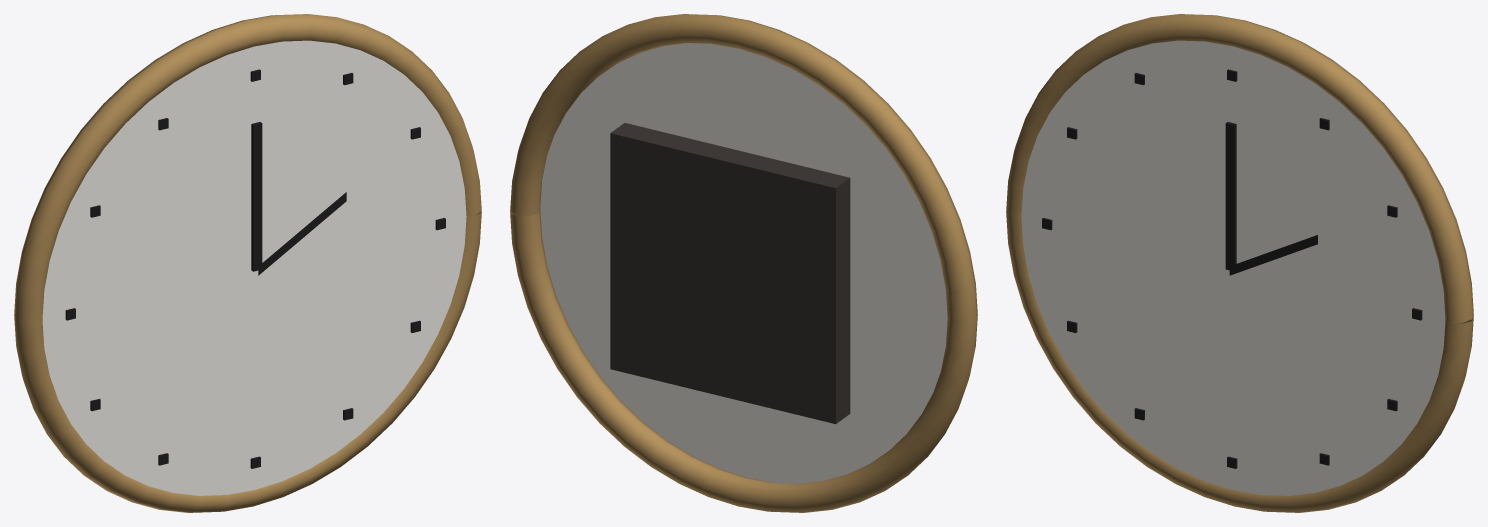
File: SAB-CLK-std.glb
3 views of the same model, side by side, from view 1: azimuth 30°, elevation 25°; view 2: azimuth 150°, elevation 25°; view 3: azimuth 330°, elevation 25° (orthographic).
Parts seen in each view (by area): view 1: SAB-CLK-std; view 2: SAB-CLK-std; view 3: SAB-CLK-std.
Boxes of the visible parts, left/top/right/bottom form: SAB-CLK-std: left=14, top=14, right=481, bottom=512; SAB-CLK-std: left=510, top=14, right=977, bottom=512; SAB-CLK-std: left=1006, top=14, right=1473, bottom=512.
Bounding box in the file's own units: 0.412 × 0.412 × 0.048.
